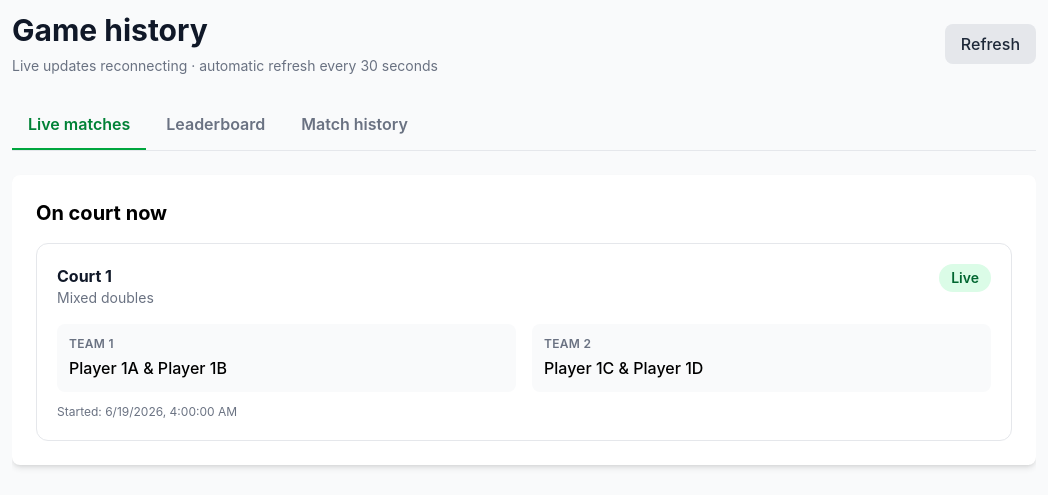
it: functional game-history tabs › loads live matches over REST even with no SSE connection, and opens other tabs
Check: the text "Player 1A & Player 1B" is shown, box top-left (69, 358), bottom-right (227, 378)
Step 1. Click the tab "Match history" → (354, 125), box top-left (285, 100), bottom-right (424, 150)
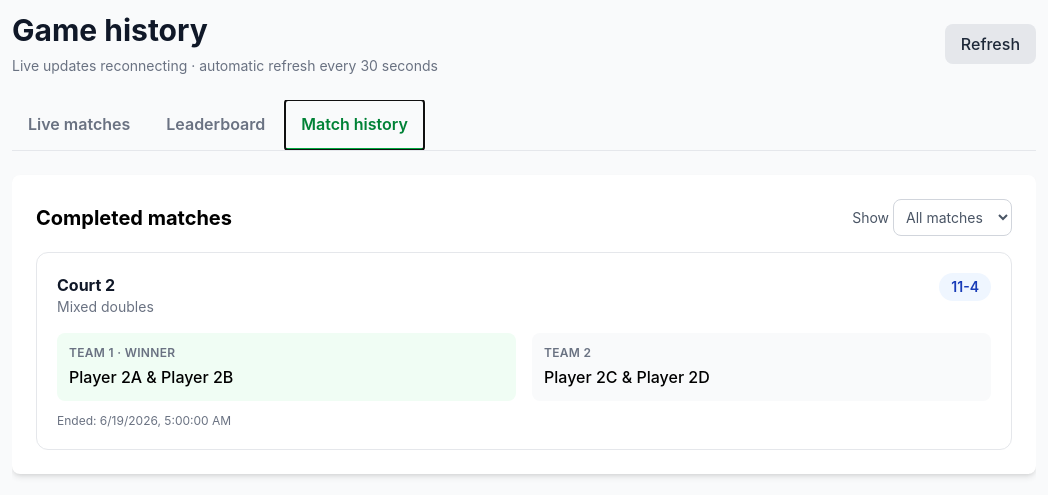
Check: the text "11-4" is shown, box top-left (939, 273), bottom-right (991, 301)
Step 2. Click the tab "Leaderboard" → (216, 125), box top-left (150, 100), bottom-right (281, 150)
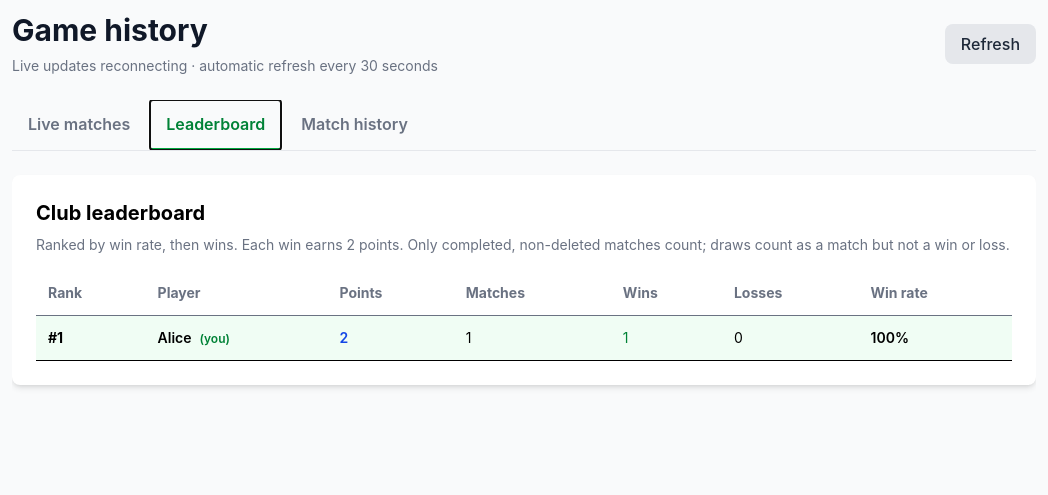
Check: the column heading "Alice" is shown, box top-left (158, 329), bottom-right (192, 346)
Check: the text "100%" is shown, box top-left (858, 316), bottom-right (1012, 360)
Check: the text "(you)" is shown, box top-left (200, 331), bottom-right (230, 346)
